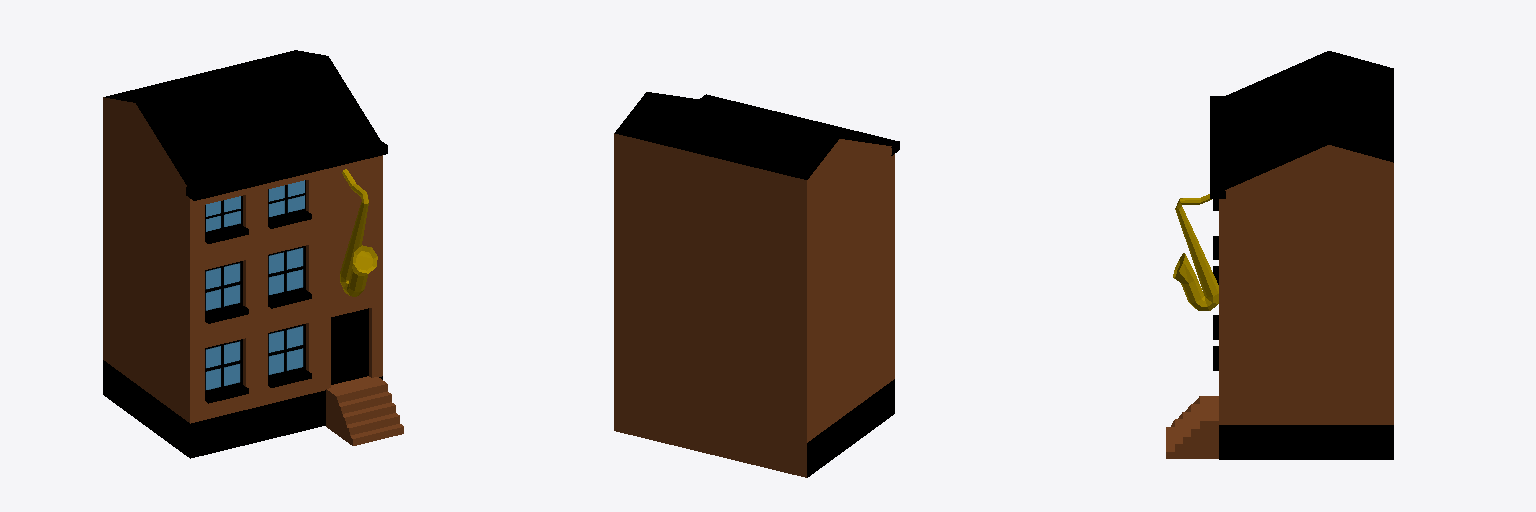
The picture shows the model from 3 angles: view 1: azimuth 30°, elevation 25°; view 2: azimuth 150°, elevation 25°; view 3: azimuth 270°, elevation 25°; orthographic projection.
Parts seen in each view (by area): view 1: buildingJazz4; view 2: buildingJazz4; view 3: buildingJazz4.
Boxes of the visible parts, <box> form: buildingJazz4: <box>103,50,403,458</box>; buildingJazz4: <box>614,92,899,477</box>; buildingJazz4: <box>1166,51,1393,459</box>.
Size of the model in its own units: 6 by 9.37 by 6.09.
Materials: 1 (1 with a texture image).